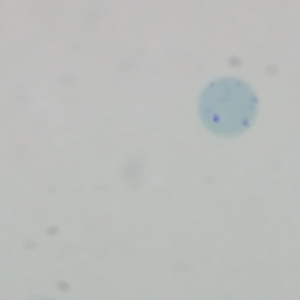punctate reticulocyte: (195, 76, 260, 138)
